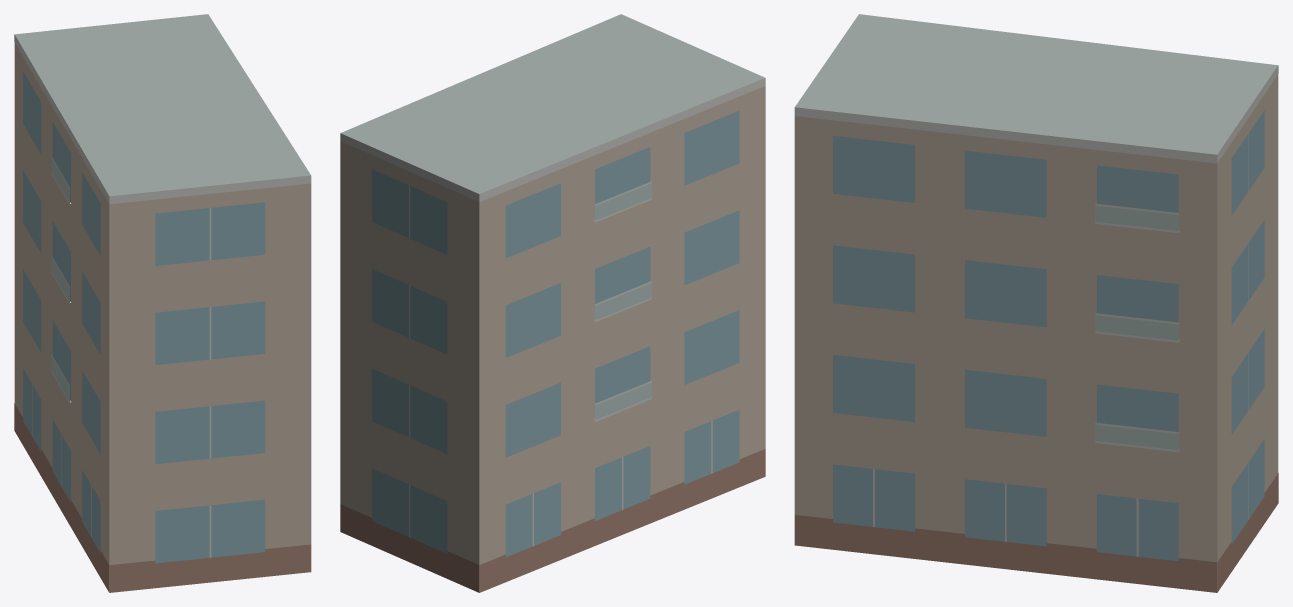
The model's file is survey-upis-32780150.glb.
3 renders of one model, left to right at view 1: azimuth 30°, elevation 25°; view 2: azimuth 150°, elevation 25°; view 3: azimuth 270°, elevation 25°, orthographic. The views are drawn at different scales.
Parts seen in each view (by area): view 1: survey-upis-32780150.tmp; view 2: survey-upis-32780150.tmp; view 3: survey-upis-32780150.tmp.
Part boxes in pixels (x1,y1,x2,y2): survey-upis-32780150.tmp: (14, 14, 311, 592); survey-upis-32780150.tmp: (340, 14, 765, 592); survey-upis-32780150.tmp: (794, 14, 1278, 592).
Size of the model in its own units: 8.41 by 12.2 by 12.22.
